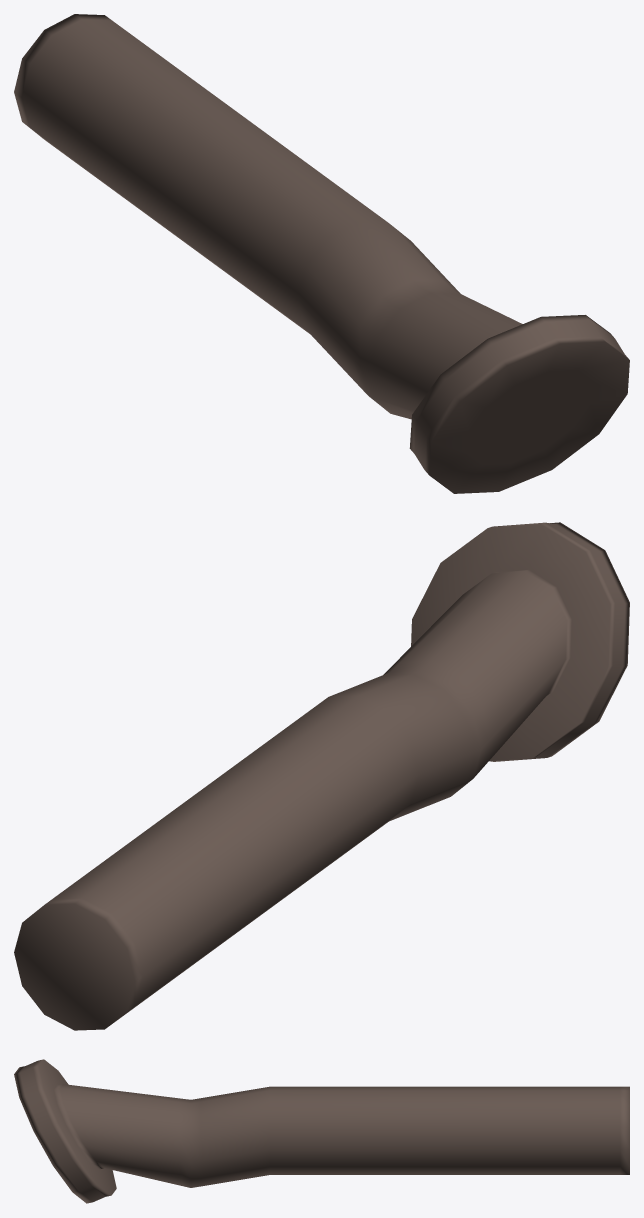
File: Kitchen_set_Kitchen_set_Kitchen_set_Props_grp_Kitchen_set_North_grp_Kitchen_set_NorthWall_grp_Kitchen_set_NailA_1.obj
3 renders of one model, top to bottom at view 1: azimuth 30°, elevation 25°; view 2: azimuth 150°, elevation 25°; view 3: azimuth 270°, elevation 25°, orthographic. The views are drawn at different scales.
Parts seen in each view (by area): view 1: Kitchen_set_Nail1 NCCA_Export; view 2: Kitchen_set_Nail1 NCCA_Export; view 3: Kitchen_set_Nail1 NCCA_Export.
Part boxes in pixels (left/top/right/bottom): Kitchen_set_Nail1 NCCA_Export: left=14, top=14, right=629, bottom=493; Kitchen_set_Nail1 NCCA_Export: left=14, top=522, right=629, bottom=1030; Kitchen_set_Nail1 NCCA_Export: left=14, top=1059, right=629, bottom=1203.
Size of the model in its own units: 0.233 by 0.2335 by 1.
